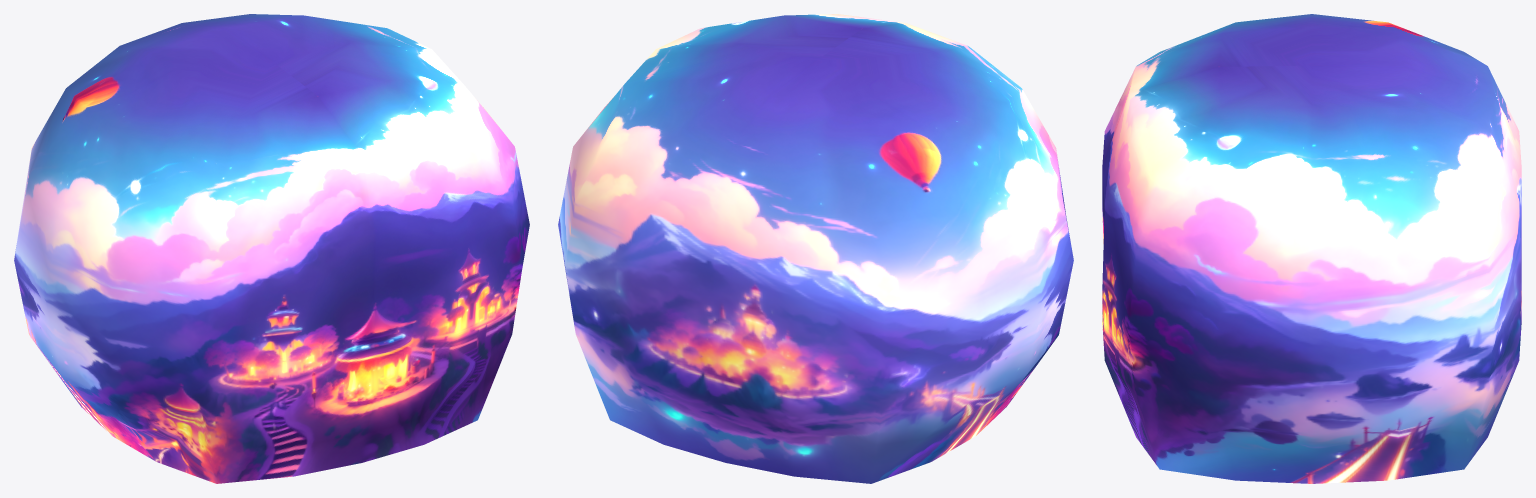
File: skybox.glb
The picture shows the model from 3 angles, left to right: view 1: azimuth 30°, elevation 25°; view 2: azimuth 150°, elevation 25°; view 3: azimuth 270°, elevation 25°; orthographic projection.
Parts seen in each view (by area): view 1: Roundcube; view 2: Roundcube; view 3: Roundcube.
Part boxes in pixels (box(x1,y1,x2,y2)): Roundcube: box(14, 14, 529, 483); Roundcube: box(558, 14, 1073, 483); Roundcube: box(1102, 14, 1521, 483).
Bounding box in the file's own units: 15.74 × 11.15 × 12.48.
1 material, 1 textured.
